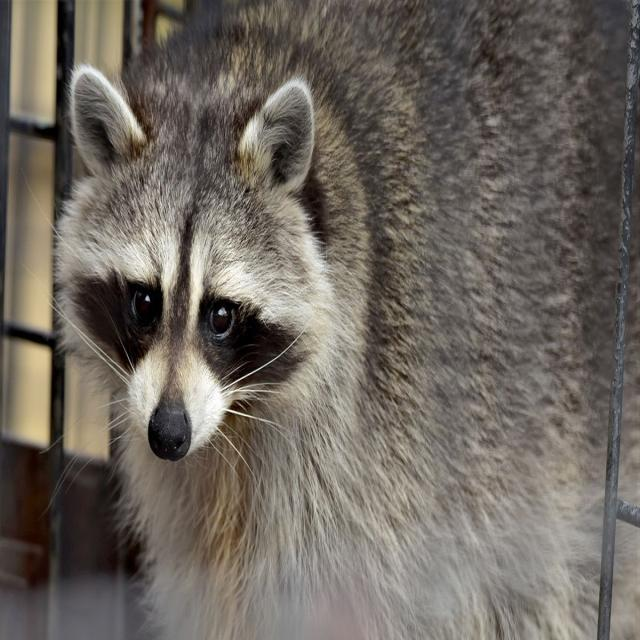Raccoon: (65, 0, 640, 640)
